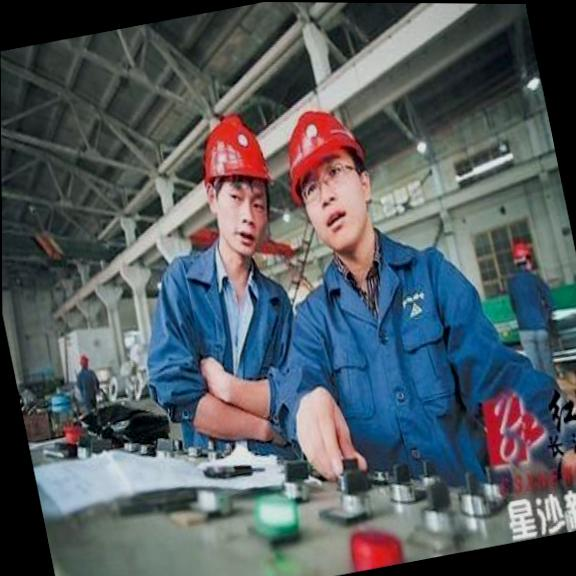no_safety_vest: (295, 224, 487, 477), (142, 234, 320, 446)
